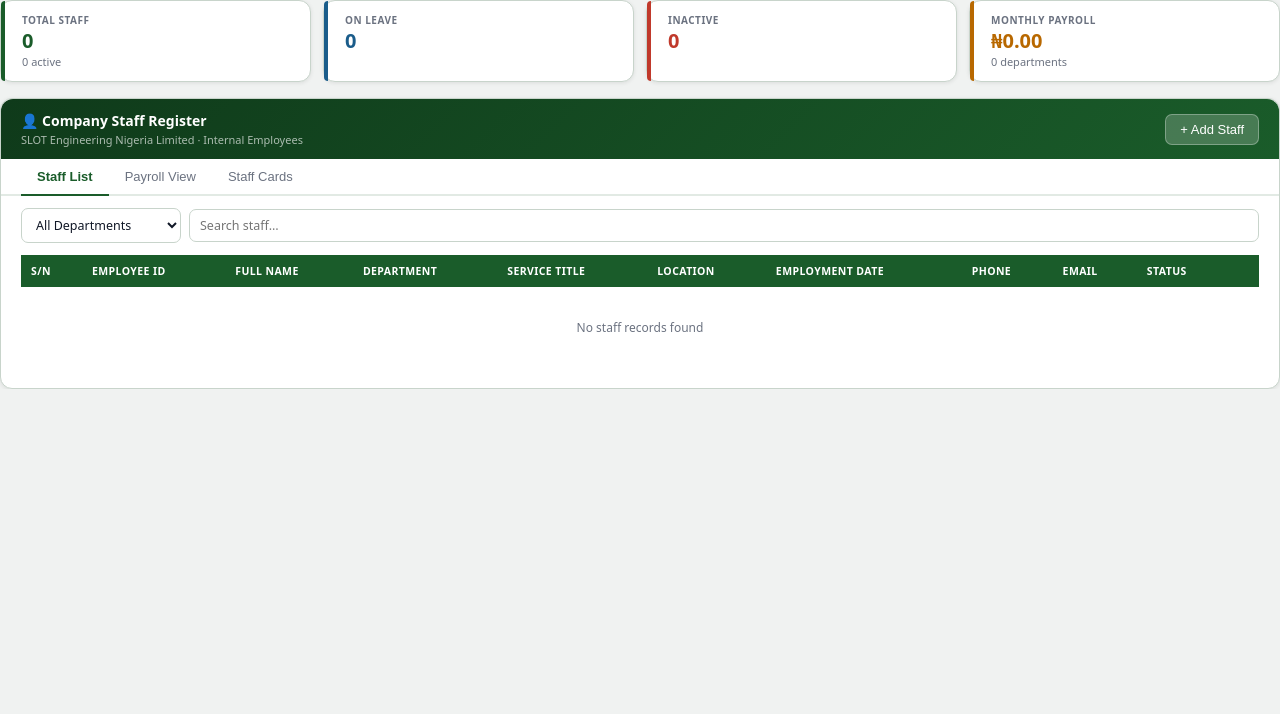
Test: SlotStaff — Add Staff › opens the Add Staff form without crashing, and saves a new staff member
The image size is (1280, 714).
Click the button "+ Add Staff" at (1212,129), box [1165,114,1259,144]
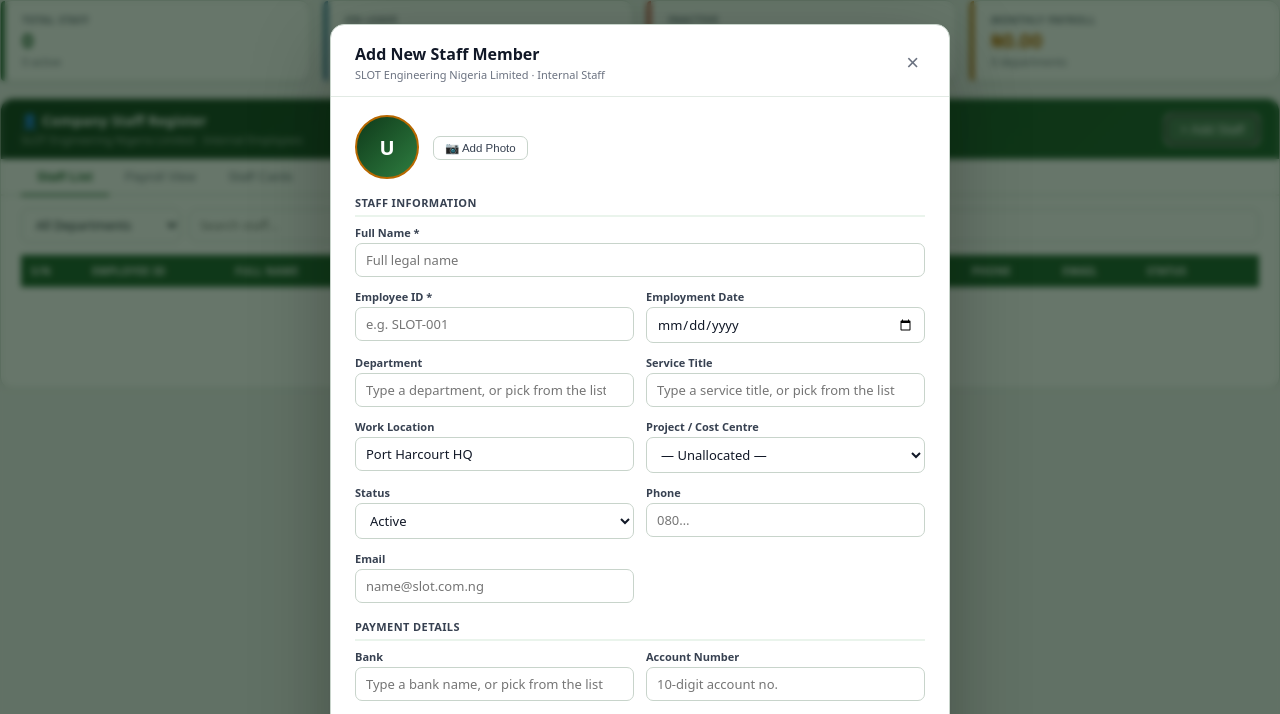
Expected: the text "Add New Staff Member" is shown, [355,43,540,65]
Type "Test Staffer Adeyemi" into the field with placeholder "Full legal name" at (640,260), box [355,243,925,277]
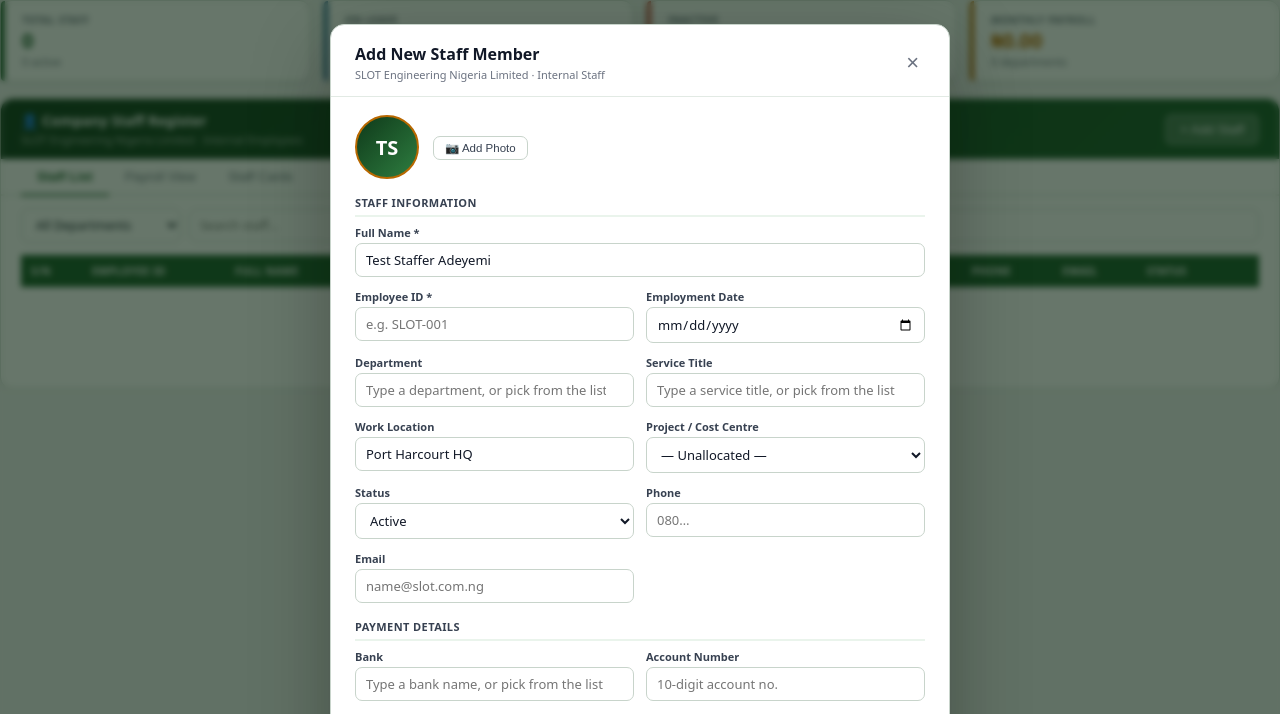
Type "SLOT-TEST-001" into the field with placeholder "e.g. SLOT-001" at (494,324), box [355,307,634,341]
(page scrolled)
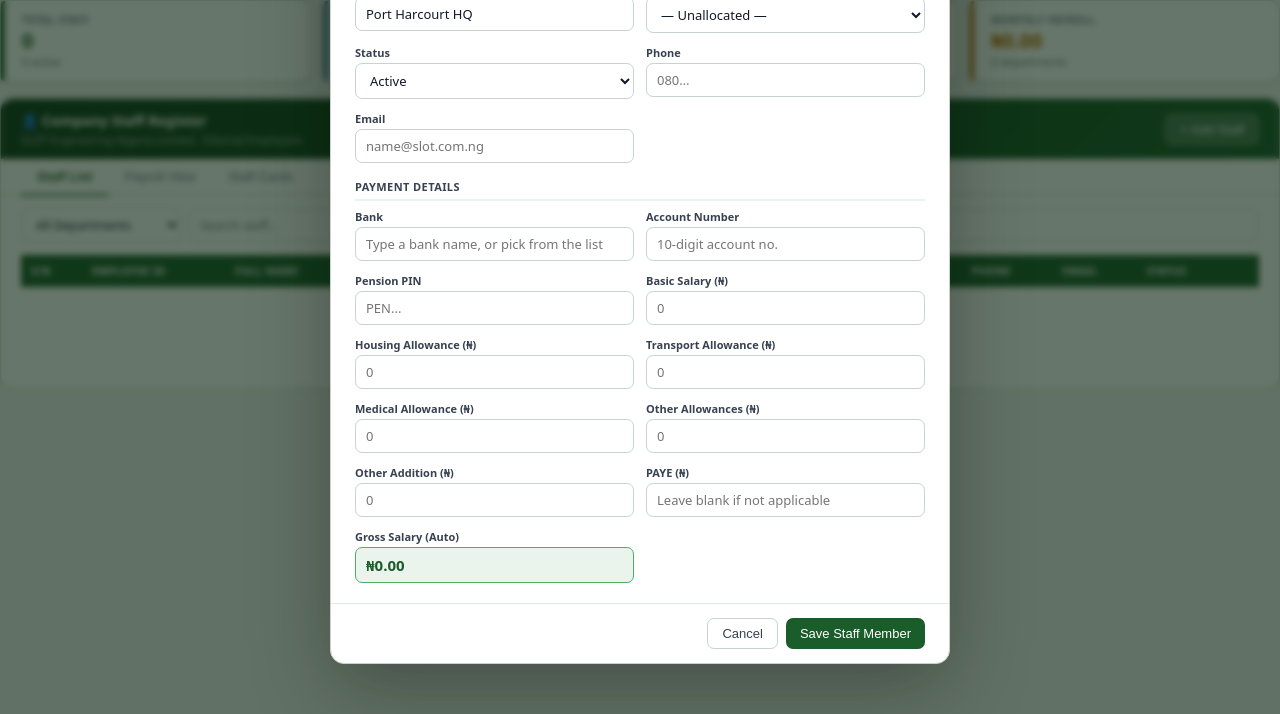
Click the button "Save Staff Member" at (856,634), box [786,618,925,649]
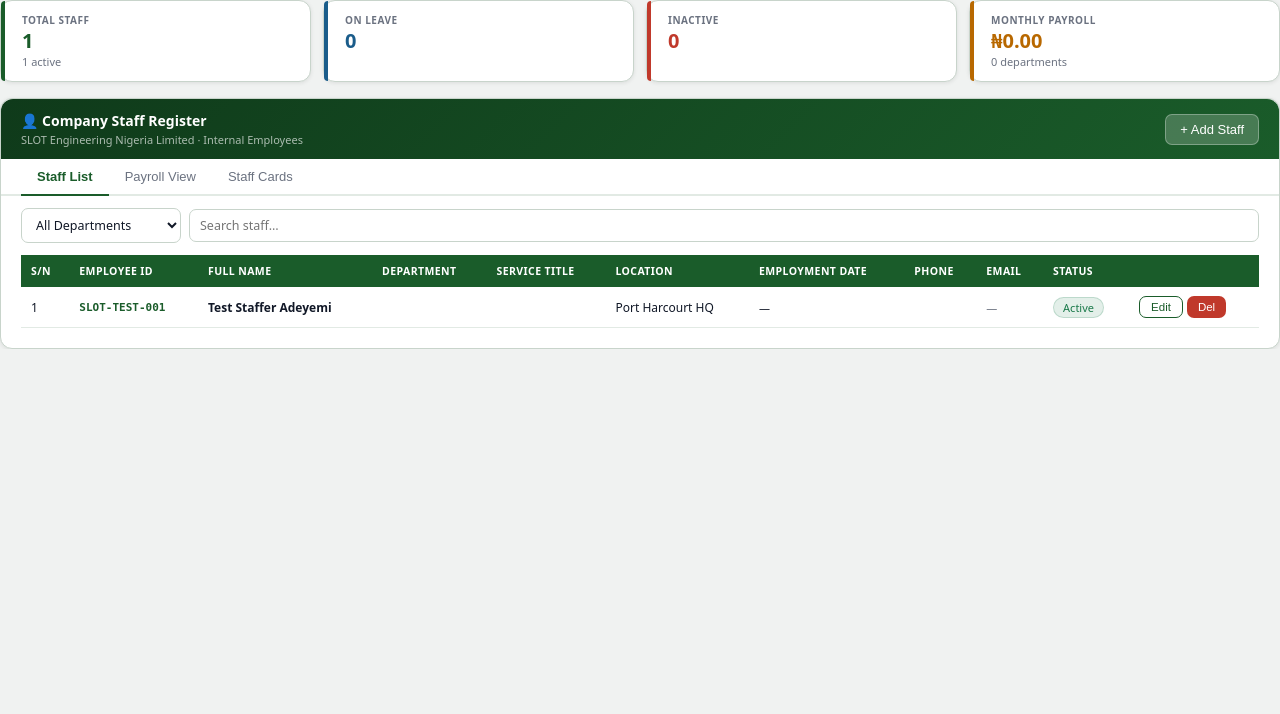
Expected: the text "Add New Staff Member" is not shown
Expected: the text "Test Staffer Adeyemi" is shown, [198,287,372,328]
